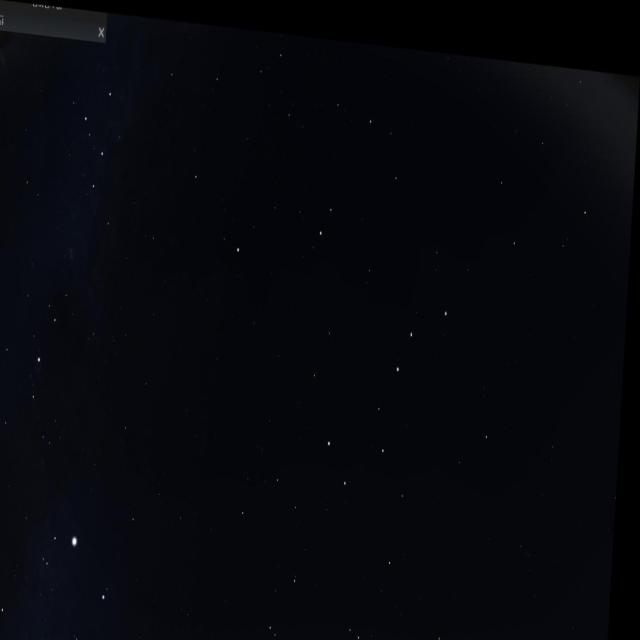cassiopeia: (65, 72, 146, 256)
ursa_major: (326, 277, 456, 497)
